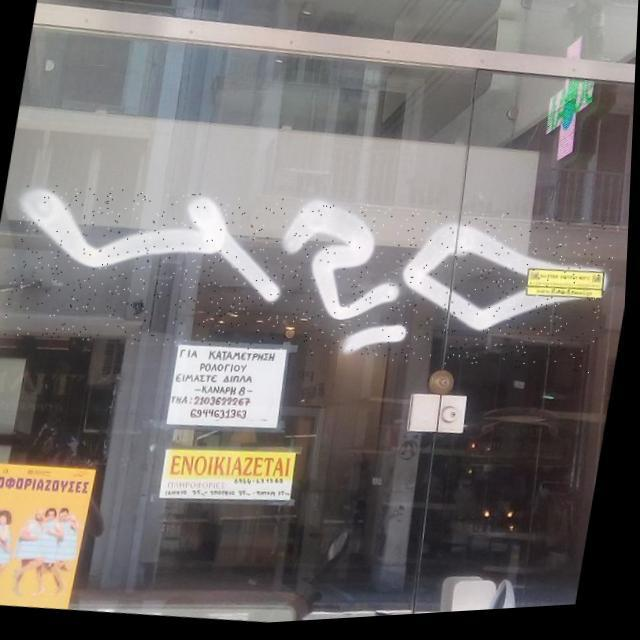-: (1, 154, 624, 408)
